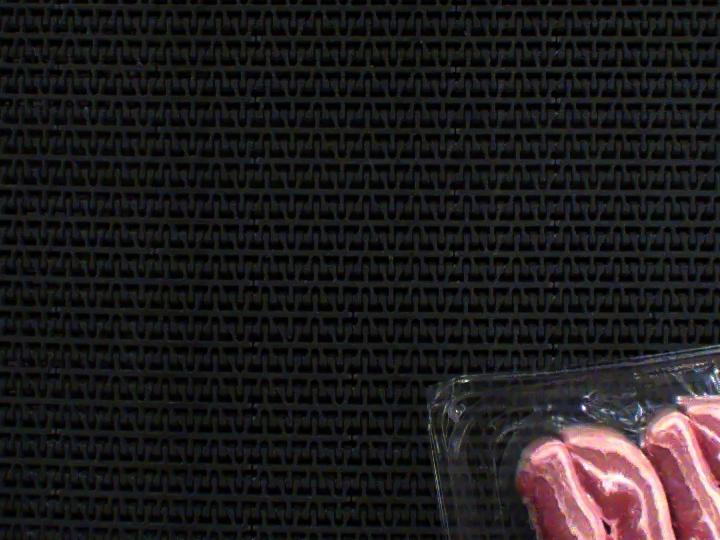unsealed: (463, 327, 720, 540)
